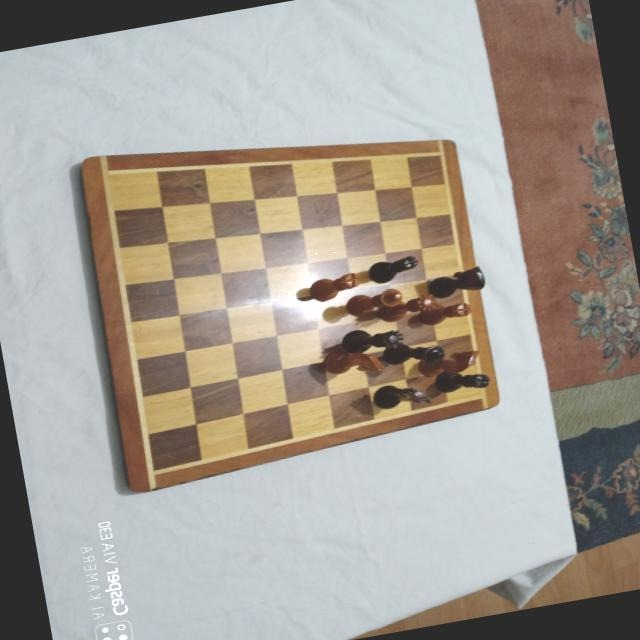black-king: (379, 334, 444, 370)
black-knight: (371, 378, 432, 414), (426, 264, 486, 299)
black-queen: (339, 322, 404, 356)
black-rook: (433, 363, 490, 396), (365, 254, 420, 286)
white-king: (343, 286, 404, 318)
white-knight: (320, 342, 385, 384), (417, 345, 482, 379)
white-queen: (376, 291, 440, 325)
white-rook: (305, 271, 362, 303), (417, 295, 473, 326)
